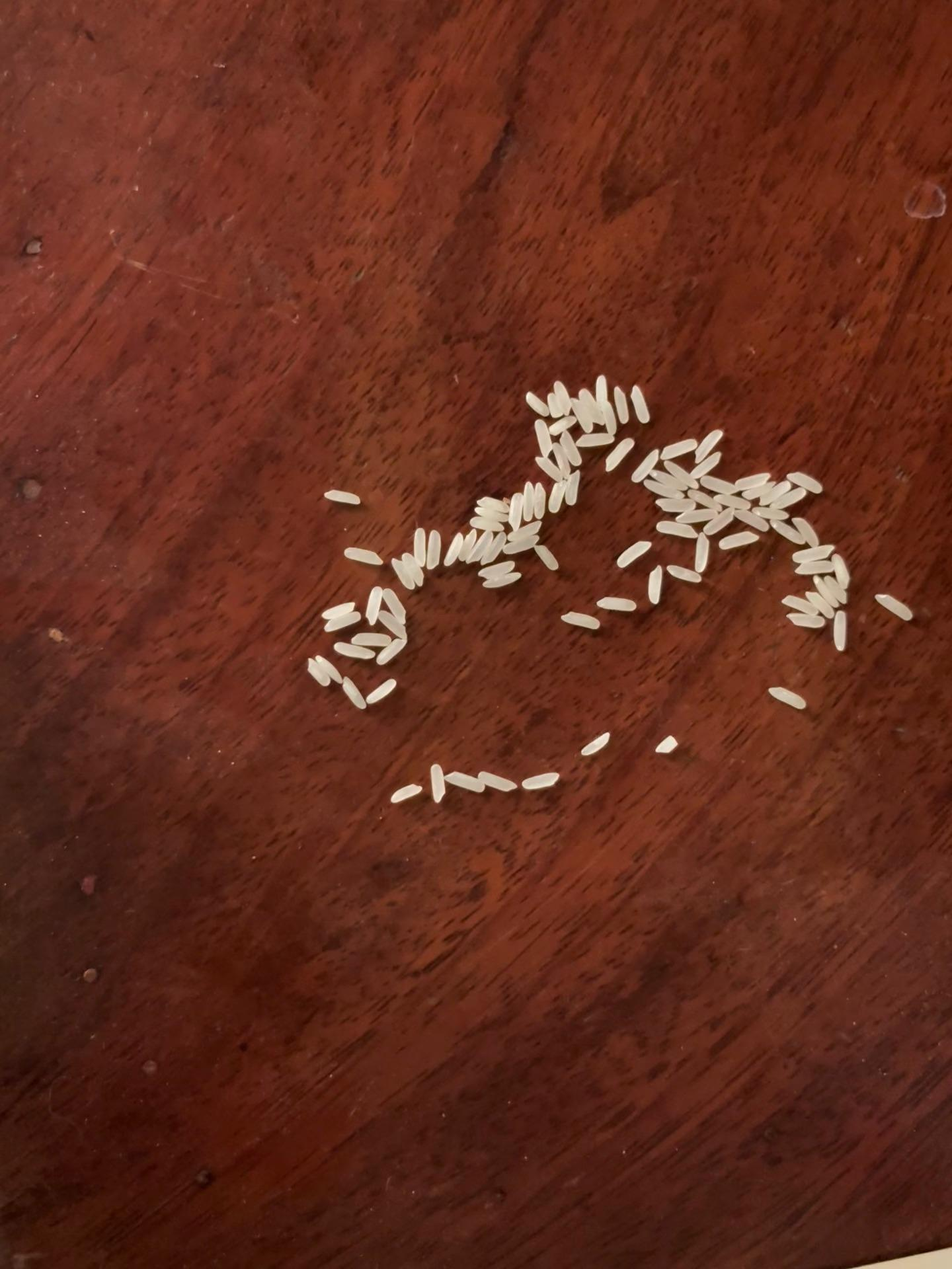Rice-th-y-nh: (693, 429, 724, 464), (663, 460, 699, 490), (605, 437, 635, 472), (578, 389, 606, 426), (615, 541, 652, 568), (875, 594, 913, 620), (631, 449, 659, 484), (703, 507, 735, 536), (467, 530, 494, 564), (770, 519, 804, 545), (445, 771, 485, 793), (378, 611, 408, 640), (690, 452, 722, 479), (643, 479, 684, 500), (481, 532, 507, 565), (768, 687, 807, 709), (477, 771, 517, 792), (792, 517, 819, 548), (383, 589, 406, 625), (787, 471, 823, 494), (782, 595, 819, 617), (805, 591, 834, 619), (771, 487, 806, 510), (560, 431, 583, 466), (391, 558, 416, 590), (759, 481, 791, 506), (377, 638, 406, 665), (315, 655, 342, 684), (688, 488, 722, 511), (793, 544, 834, 563), (660, 439, 697, 460), (813, 576, 838, 607), (562, 470, 584, 505), (657, 520, 697, 539), (401, 553, 424, 586), (367, 679, 397, 704), (508, 520, 542, 542), (571, 399, 593, 433), (503, 535, 540, 555), (630, 386, 650, 423), (334, 642, 375, 660), (343, 677, 366, 709), (652, 470, 687, 491), (535, 456, 563, 482), (484, 571, 522, 590), (325, 612, 361, 632), (700, 475, 736, 495), (735, 510, 769, 531), (534, 420, 553, 457), (719, 531, 758, 549), (823, 576, 848, 604), (831, 554, 851, 589), (429, 764, 447, 802), (552, 444, 572, 478), (458, 529, 478, 563), (351, 631, 391, 648), (581, 733, 610, 756), (563, 611, 600, 629), (522, 772, 559, 790), (344, 547, 383, 564), (425, 530, 442, 569), (479, 561, 515, 579), (787, 612, 825, 629), (366, 587, 383, 625), (599, 402, 618, 436), (411, 528, 428, 566), (677, 508, 717, 524), (832, 611, 848, 651), (715, 494, 752, 511), (597, 596, 636, 612), (307, 659, 330, 686), (667, 565, 701, 583), (734, 473, 770, 490), (390, 784, 422, 803), (508, 493, 524, 531), (548, 481, 567, 513), (535, 545, 559, 570), (796, 560, 833, 576), (444, 534, 463, 565), (743, 482, 774, 501), (694, 534, 709, 573), (657, 498, 696, 513), (648, 565, 663, 604), (477, 496, 509, 514), (576, 432, 614, 447), (322, 602, 355, 619), (470, 516, 503, 533), (325, 489, 360, 505), (752, 506, 789, 521), (614, 387, 629, 424), (526, 392, 549, 416), (554, 382, 571, 414), (549, 416, 575, 436), (534, 483, 547, 519), (593, 376, 609, 404), (523, 483, 535, 519), (474, 507, 503, 521), (547, 393, 563, 418), (655, 736, 678, 753)
